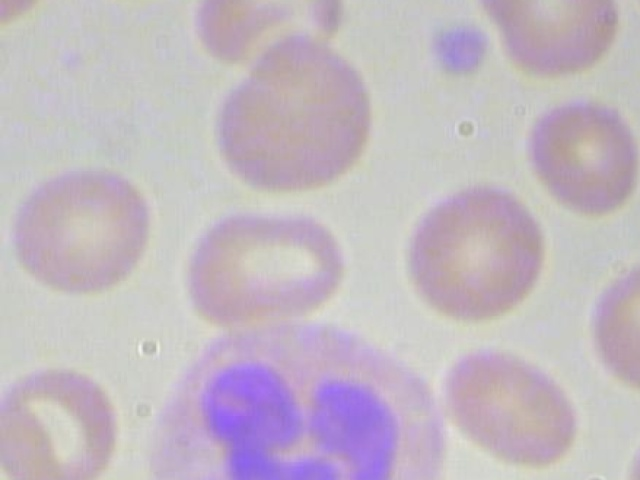Platelets: (411, 10, 499, 90)
RBC: (200, 33, 384, 199), (380, 179, 553, 326), (175, 185, 347, 332), (0, 149, 156, 295), (437, 342, 582, 480), (0, 353, 135, 480), (522, 90, 640, 215), (464, 0, 627, 84), (586, 239, 640, 397), (601, 402, 640, 480), (0, 0, 63, 38), (612, 0, 640, 45), (66, 0, 234, 3)
WBC: (122, 313, 452, 480)
